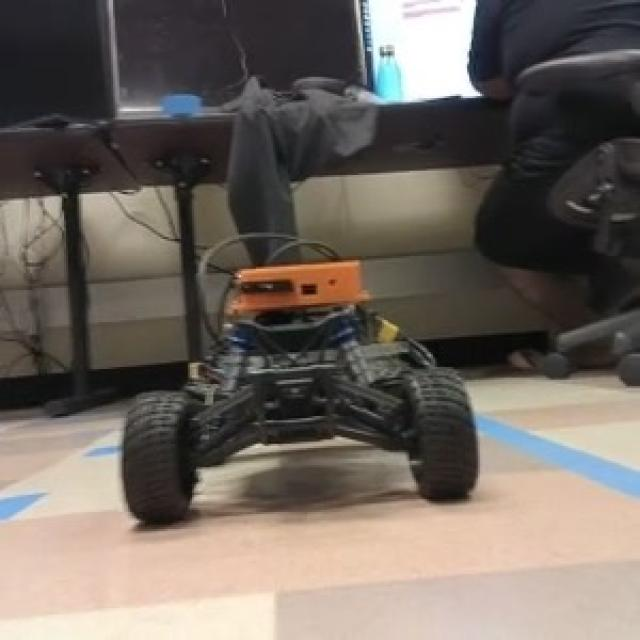obstacle: (111, 255, 488, 535)
